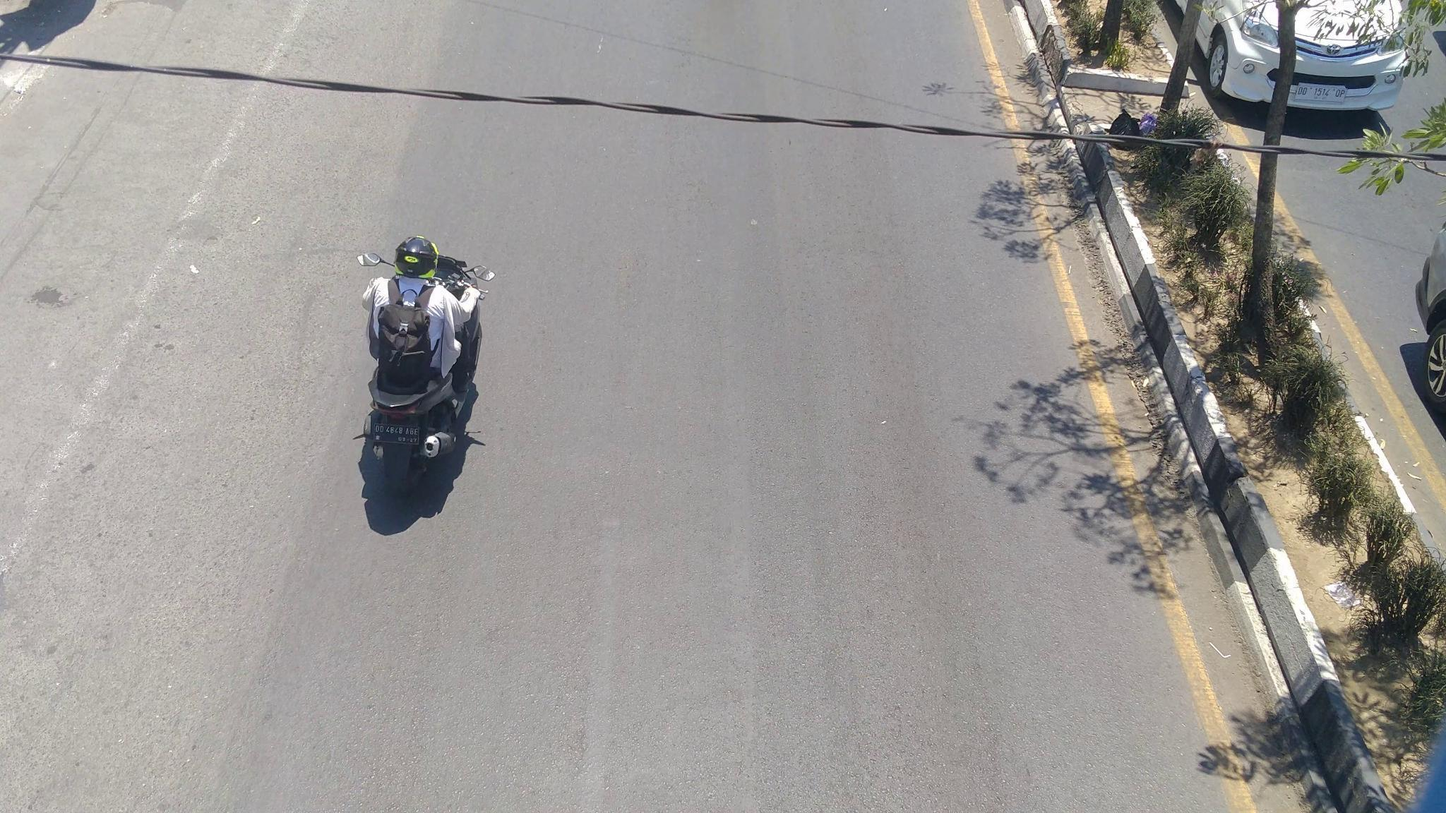Helmet: (392, 230, 443, 290)
bike: (353, 248, 499, 492)
number-plate: (369, 422, 423, 446)
rider: (363, 231, 485, 395)
